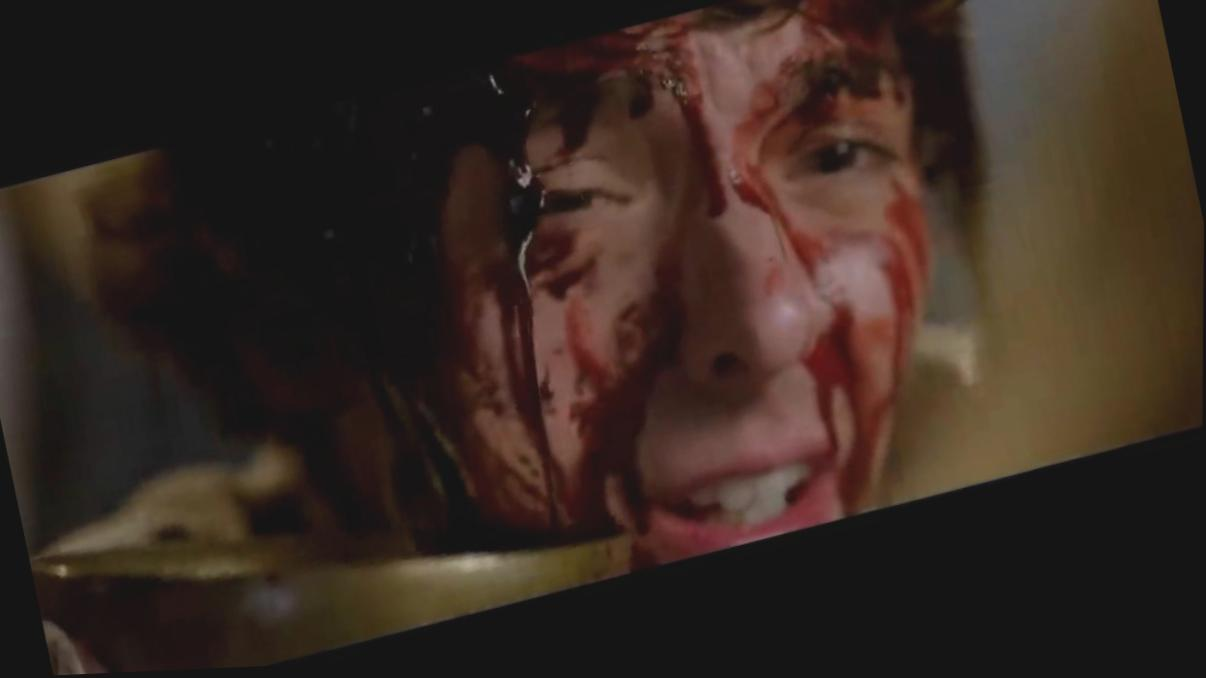Fire: (385, 0, 965, 573)
